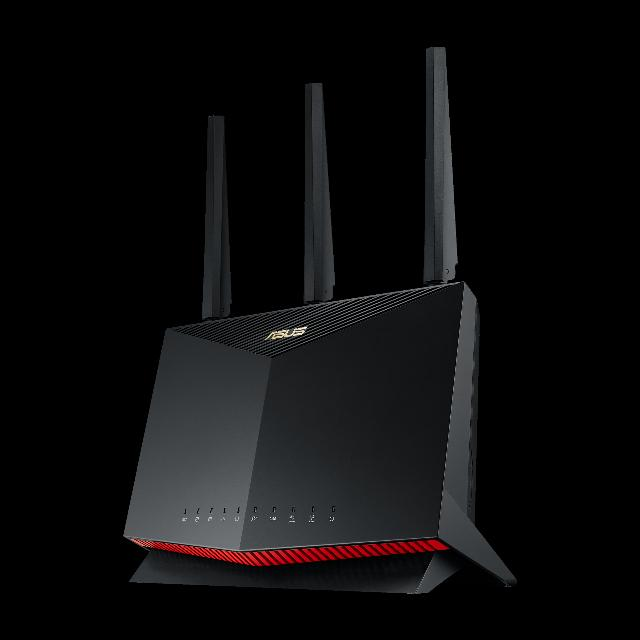Router: (124, 47, 518, 595)
